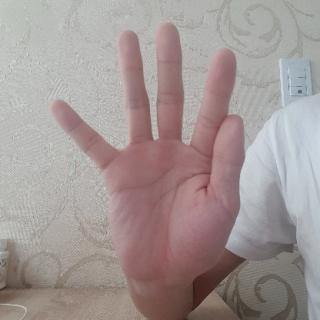SHEEN: (48, 19, 252, 306)
